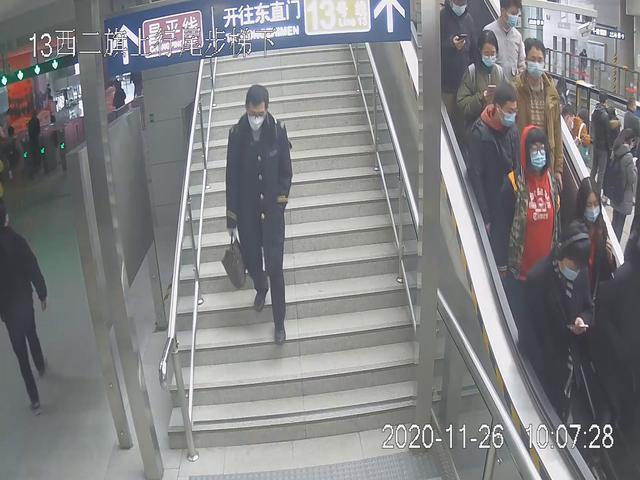person: (515, 218, 600, 454), (224, 82, 298, 347), (492, 123, 567, 331), (505, 32, 572, 231), (1, 201, 54, 419)
